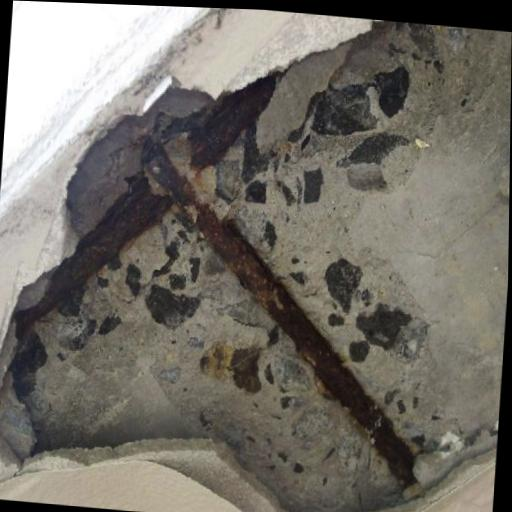exposed_rebar: (14, 140, 414, 486), (187, 74, 280, 171)
spalling: (0, 21, 512, 512)
